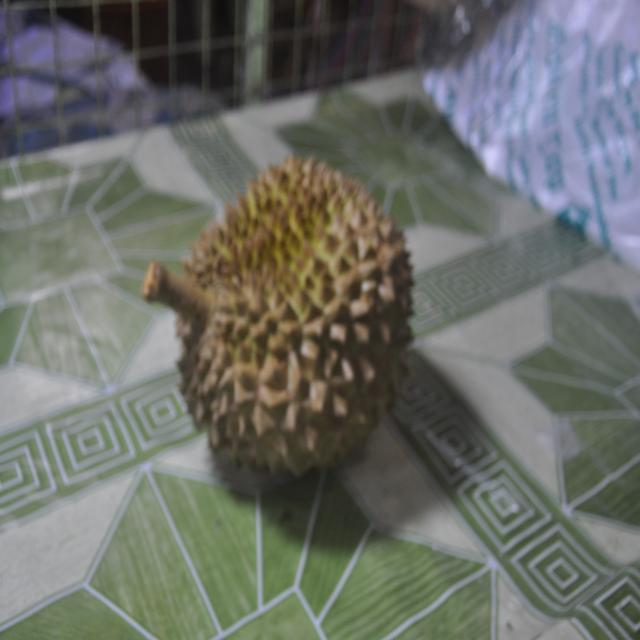mature: (143, 158, 413, 474)
